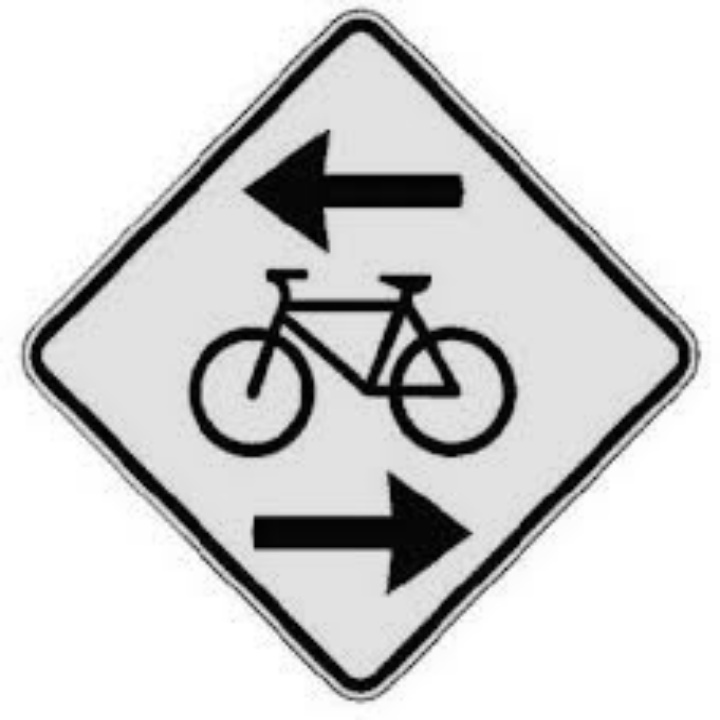bicycle: (181, 199, 525, 543)
